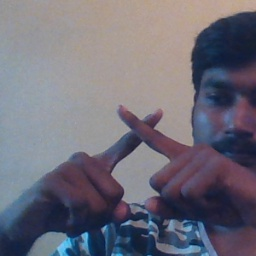X: (78, 94, 204, 213)
